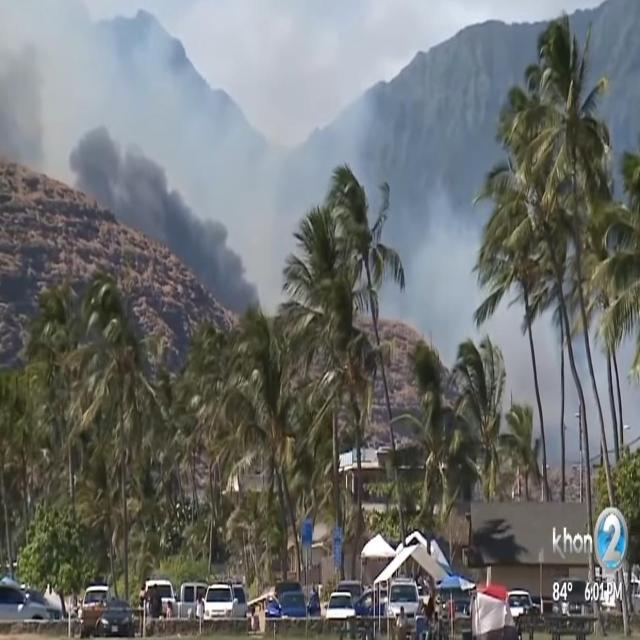Smoke: (7, 15, 279, 261), (416, 154, 474, 346)
